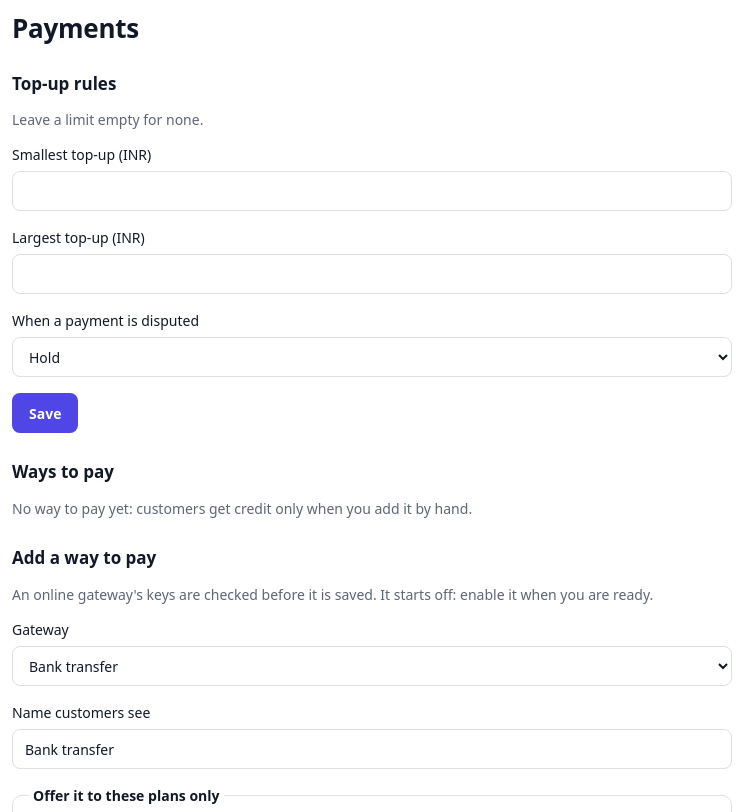
Test: Admin → Payments › saves the top-up rules, an empty limit as none
Type " 100 " into the field labelled "Smallest top-up (INR)". click: (372, 191)
box: [12,171,732,211]
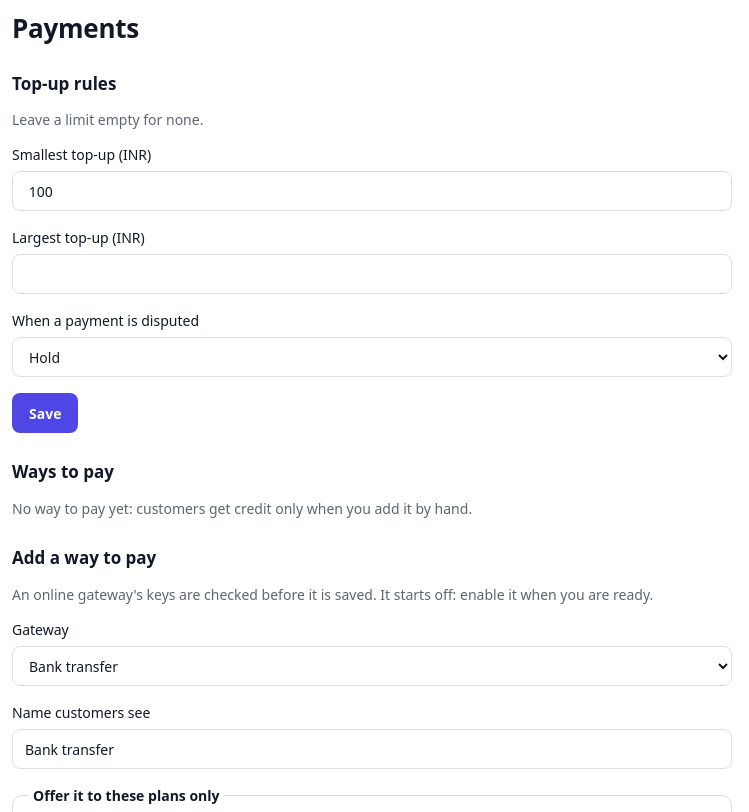
Select "Suspend" in the dropdown labelled "When a payment is disputed". click: (372, 357)
box: [12,337,732,377]
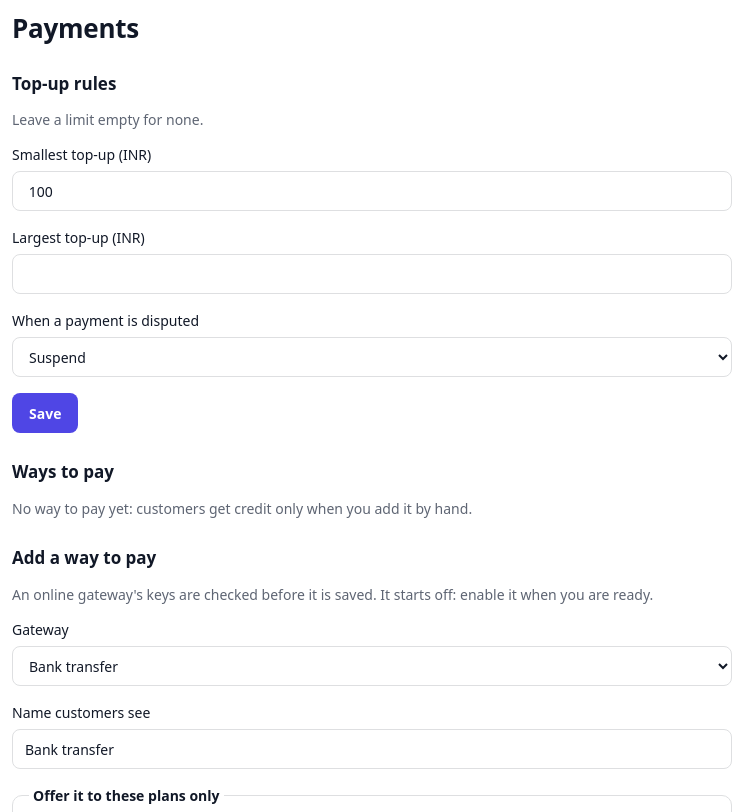
Click the button "Save". click: (45, 413)
box: [12,393,78,433]
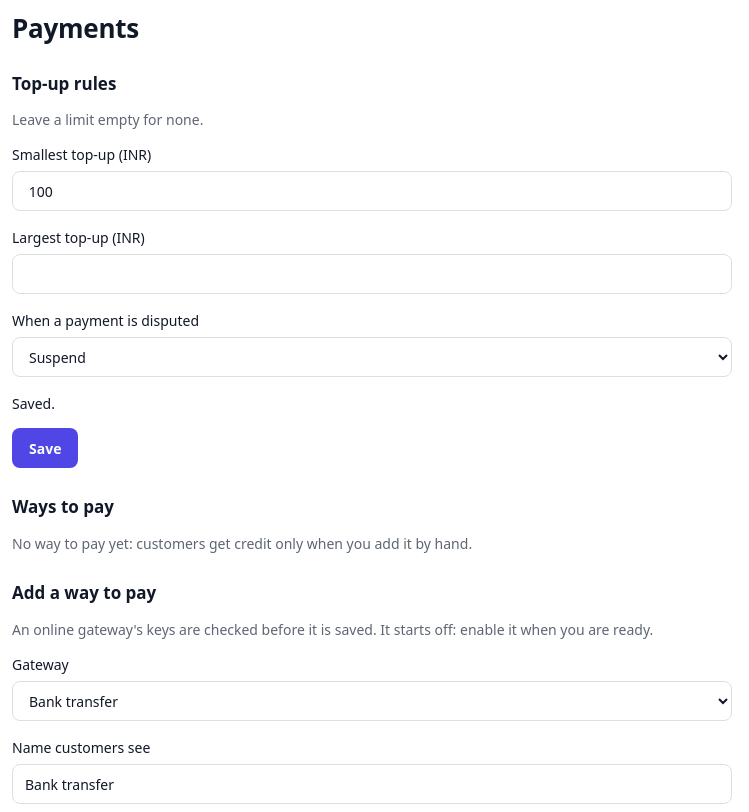
expect the text "Saved." is shown: met, box [12,394,55,413]
